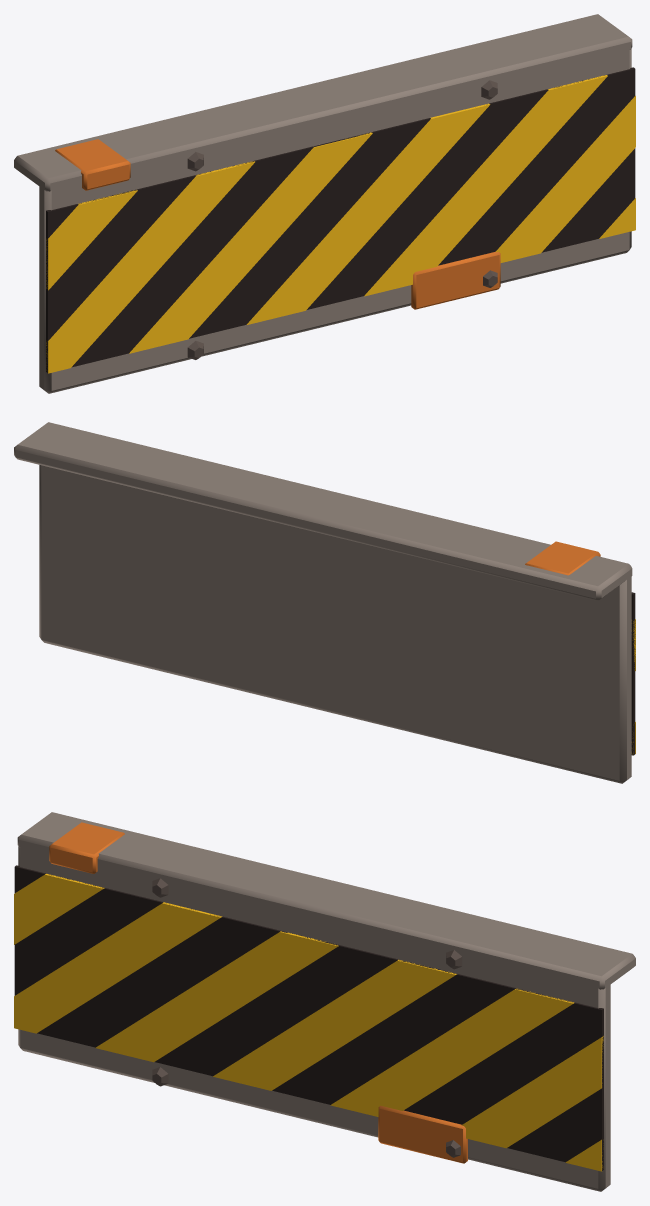
Rendered from edge_trim__upper.glb.
The picture shows the model from 3 angles, top to bottom: view 1: azimuth 30°, elevation 25°; view 2: azimuth 150°, elevation 25°; view 3: azimuth 330°, elevation 25°; orthographic projection.
Visible parts, largest first — view 1: edge_trim; view 2: edge_trim; view 3: edge_trim.
Part boxes in pixels (<box>): edge_trim: <box>14,14,635,393</box>; edge_trim: <box>14,422,635,783</box>; edge_trim: <box>14,812,635,1191</box>.
Size of the model in its own units: 1 by 0.356 by 0.119.
